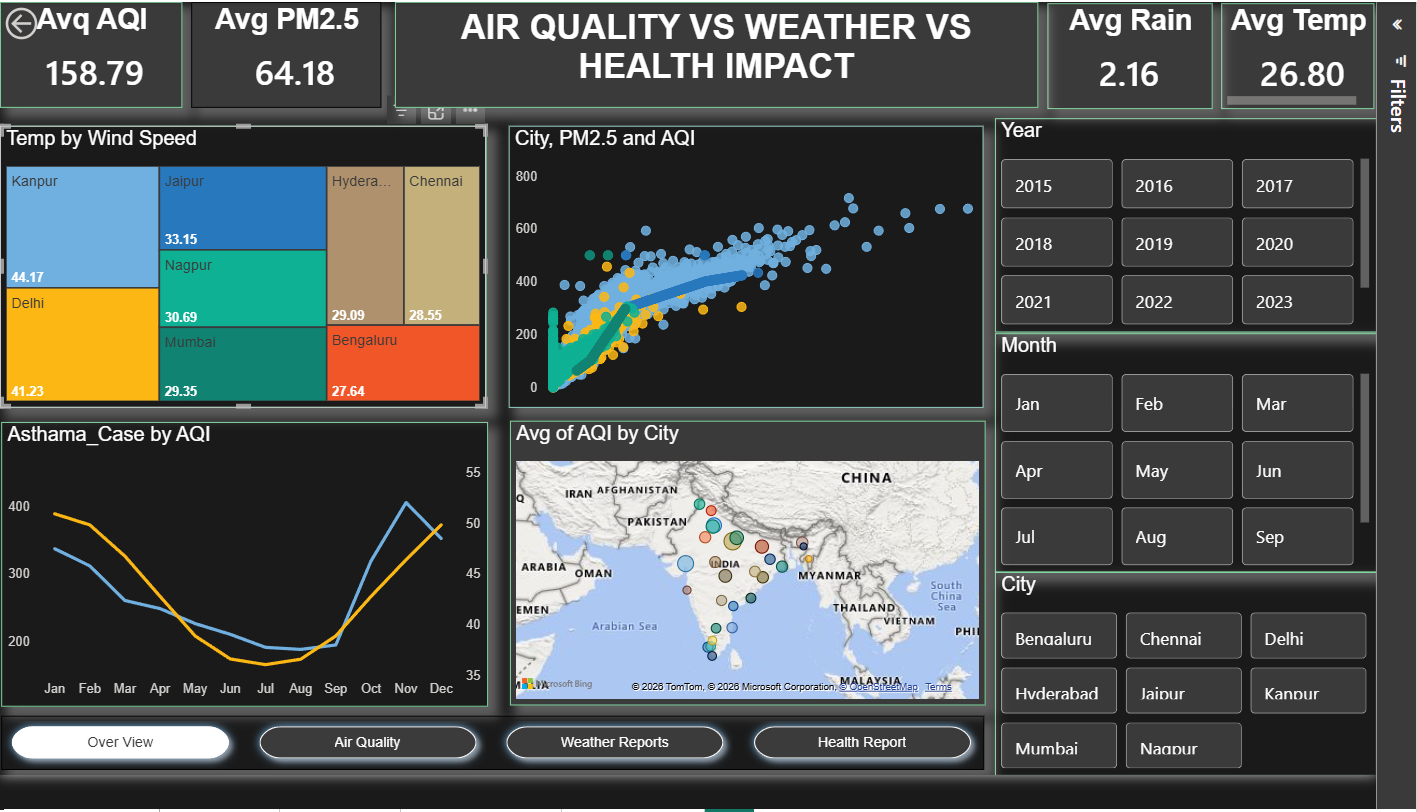

The dashboard page shown, as its layout file describes it:
{"tool":"powerbi","page":{"name":"Over View","canvas":[1280,720],"ordinal":0},"visuals":[{"type":"cardVisual","title":"Avq AQI","fields":{"Data":["Avg(Air_Quality_updated.AQI)"]},"box":[0,0,169.6,98.4],"z":0},{"type":"cardVisual","title":"Avg PM2.5","fields":{"Data":["Avg(Air_Quality_updated.PM2.5)"]},"box":[177.9,0,176.6,98.3],"z":1000},{"type":"advancedSlicerVisual","fields":{"Values":["Date Table.Year"]},"box":[925.1,108.3,354.9,199.6],"z":2000},{"type":"advancedSlicerVisual","fields":{"Values":["Date Table.Month"]},"box":[925.1,307.9,354.9,222.4],"z":3000},{"type":"advancedSlicerVisual","fields":{"Values":["City Table.City"]},"box":[925.1,530.2,354.9,189.6],"z":4000},{"type":"cardVisual","title":"Avg Temp","fields":{"Data":["Avg(Weather_Report_updated.Avg_Temp)"]},"box":[1136.2,1.2,142.3,98.2],"z":5000},{"type":"cardVisual","title":"Avg Rain","fields":{"Data":["Avg(Weather_Report_updated.Total_Rainfall)"]},"box":[974.2,1.2,153.4,98.2],"z":6000},{"type":"lineChart","title":"Asthama_Case by AQI","fields":{"Y":["Avg(Air_Quality_updated.AQI)"],"Category":["Date Table.Month"],"Y2":["Avg(Health_Report.Health_Risk_Index)"]},"box":[1.2,390.2,452.8,265],"z":7000},{"type":"scatterChart","fields":{"Series":["City Table.City"],"X":["Air_Quality_updated.PM2.5"],"Y":["Air_Quality_updated.AQI"]},"box":[473.6,115.3,441.7,262.6],"z":8000},{"type":"treemap","title":"Temp by Wind Speed","fields":{"Group":["Health_Report.City"],"Values":["Avg(Health_Report.Health_Risk_Index)"]},"box":[0,115.3,452.8,262.6],"z":9000},{"type":"textbox","box":[367,0,598.3,98.3],"z":10000},{"type":"map","title":"Avg of AQI by City","fields":{"Category":["City Table.City"],"Size":["Avg(Air_Quality_updated.AQI)"],"Series":["Air_Quality_updated.City"]},"box":[474,390,442,265],"z":11000},{"type":"actionButton","box":[0,0,100,40],"z":12000},{"type":"pageNavigator","box":[1.2,663.8,914.1,50.3],"z":13000}]}

Visuals, with their boxes in screenshot pixels (x1, y1, x2, y2), scaled from the page's 1280x720 canvas onto the 1417x812 screenshot:
"Avq AQI" cardVisual: 0 0 188 111
"Avg PM2.5" cardVisual: 197 0 392 111
advancedSlicerVisual - Date Table.Year: 1024 122 1416 347
advancedSlicerVisual - Date Table.Month: 1024 347 1416 598
advancedSlicerVisual - City Table.City: 1024 598 1416 811
"Avg Temp" cardVisual: 1258 1 1415 112
"Avg Rain" cardVisual: 1078 1 1248 112
"Asthama_Case by AQI" lineChart: 1 440 503 739
scatterChart - City Table.City x Air_Quality_updated.PM2.5: 524 130 1013 426
"Temp by Wind Speed" treemap: 0 130 501 426
textbox: 406 0 1069 111
"Avg of AQI by City" map: 525 440 1014 739
actionButton: 0 0 111 45
pageNavigator: 1 749 1013 805
